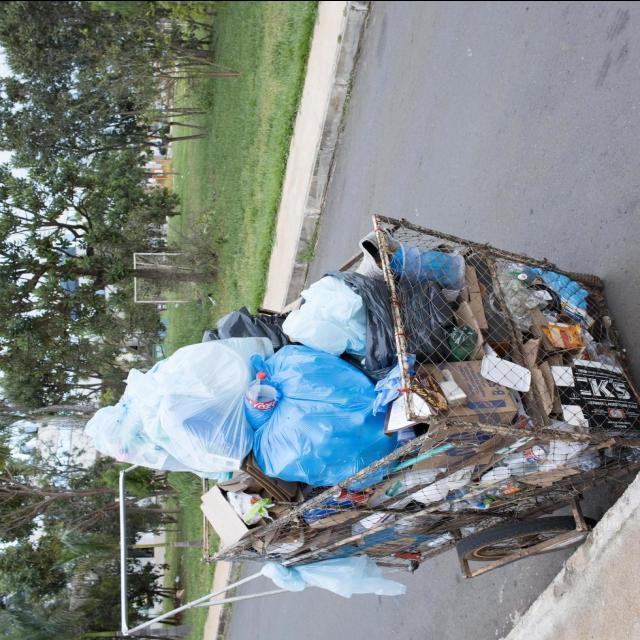Disposable: (480, 354, 531, 391)
Garbage: (86, 215, 638, 596)
Plastic_Bag: (86, 336, 274, 478), (253, 344, 397, 485), (325, 270, 397, 378), (282, 275, 367, 355), (262, 554, 406, 596), (397, 281, 454, 361), (523, 265, 592, 326), (227, 490, 274, 524)
Plastic_Container: (391, 242, 465, 288)
Plastic_bottle: (217, 306, 290, 350), (244, 370, 280, 429), (502, 444, 548, 469), (449, 325, 477, 360)
can: (334, 489, 368, 504)
